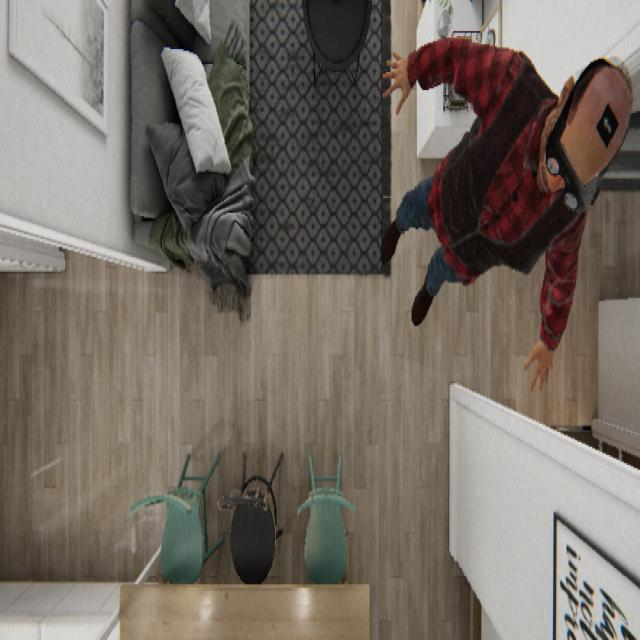Human: (380, 34, 633, 393)
UnityLogo: (595, 98, 619, 149)
